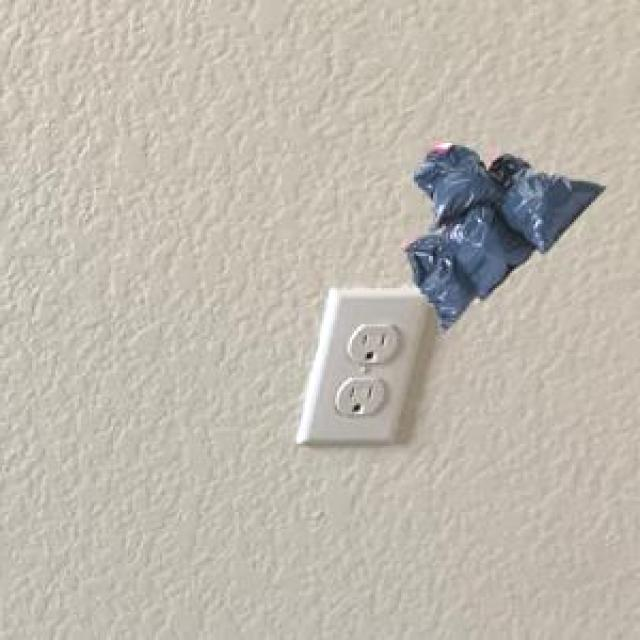Trashbag: (419, 141, 509, 220), (506, 176, 588, 243), (457, 213, 513, 287), (404, 243, 462, 307)
